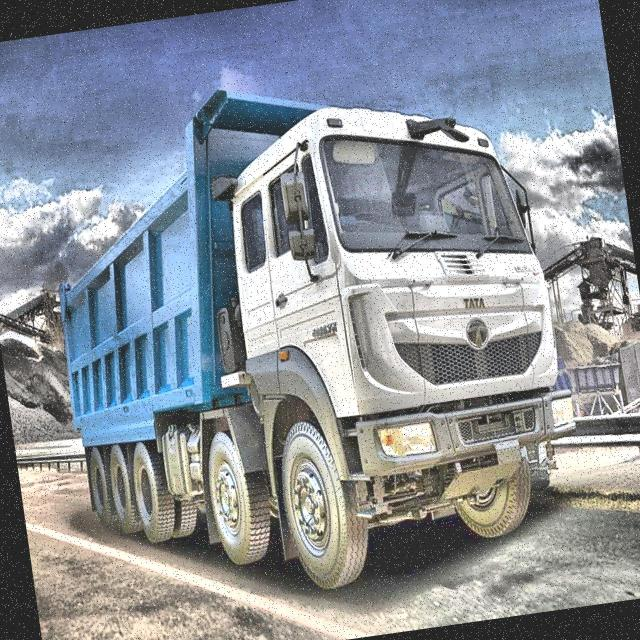dump_truck: (30, 47, 588, 623)
